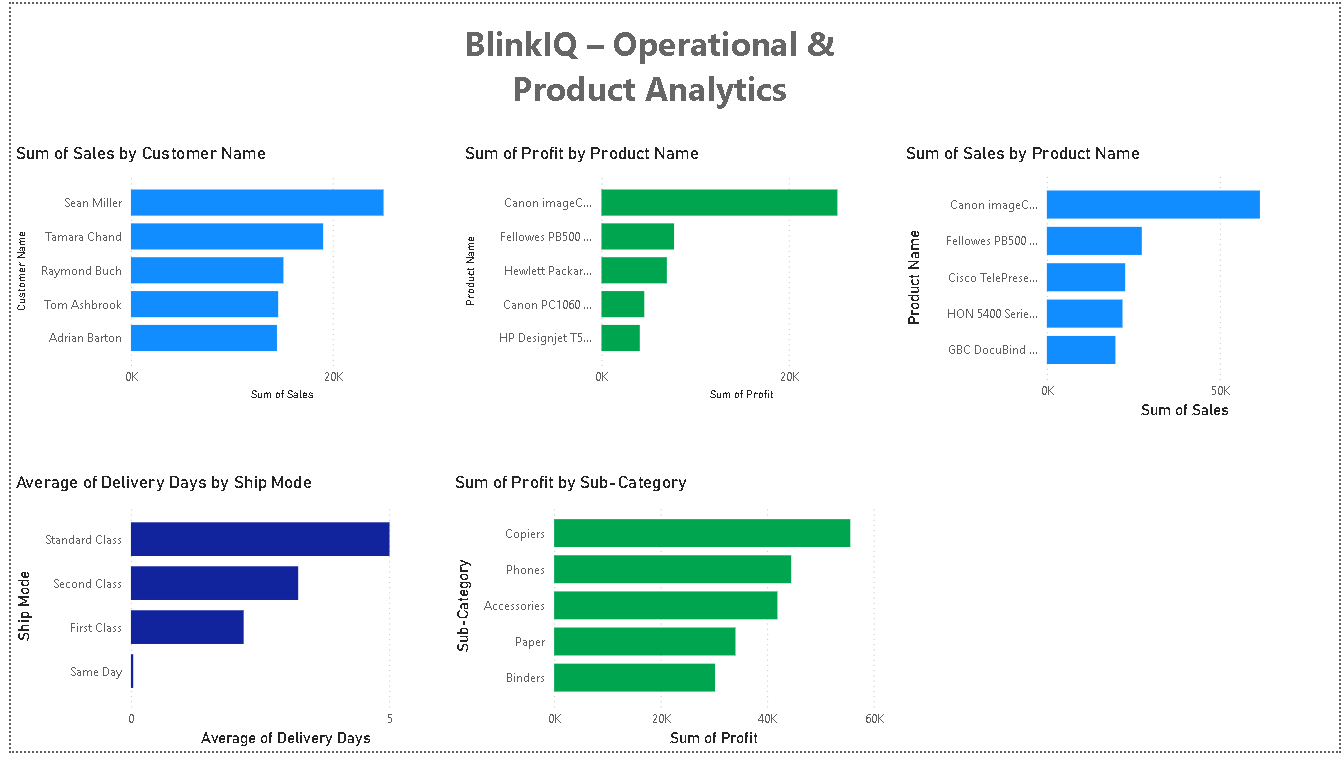

The dashboard page shown, as its layout file describes it:
{"tool":"powerbi","page":{"name":"Page 2","canvas":[1280,720],"ordinal":1},"visuals":[{"type":"barChart","fields":{"Category":["cleaneddata.Product Name"],"Y":["Sum(cleaneddata.Sales)"]},"box":[857.5,133.8,422.5,271.2],"z":0},{"type":"barChart","fields":{"Category":["cleaneddata.Product Name"],"Y":["Sum(cleaneddata.Profit)"]},"box":[432.5,133.8,422.5,253.8],"z":1000},{"type":"barChart","fields":{"Category":["cleaneddata.Ship Mode"],"Y":["Avg(cleaneddata.Delivery Days)"]},"box":[0,450,422.5,270],"z":2000},{"type":"barChart","fields":{"Category":["cleaneddata.Customer Name"],"Y":["Sum(cleaneddata.Sales)"]},"box":[0,133.8,422.5,253.8],"z":3000},{"type":"barChart","fields":{"Category":["cleaneddata.Sub-Category"],"Y":["Sum(cleaneddata.Profit)"]},"box":[422.5,450,423.8,270],"z":4000},{"type":"textbox","box":[383.8,11.2,462.5,122.5],"z":5000}]}

Visuals, with their boxes in screenshot pixels (x1, y1, x2, y2), scaled from the page's 1280x720 canvas onto the 1341x764 screenshot:
barChart - cleaneddata.Product Name x Sum(cleaneddata.Sales): BBox(898, 142, 1340, 430)
barChart - cleaneddata.Product Name x Sum(cleaneddata.Profit): BBox(453, 142, 896, 411)
barChart - cleaneddata.Ship Mode x Avg(cleaneddata.Delivery Days): BBox(0, 478, 443, 763)
barChart - cleaneddata.Customer Name x Sum(cleaneddata.Sales): BBox(0, 142, 443, 411)
barChart - cleaneddata.Sub-Category x Sum(cleaneddata.Profit): BBox(443, 478, 887, 763)
textbox: BBox(402, 12, 887, 142)
